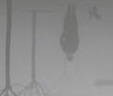person: (57, 4, 83, 63)
